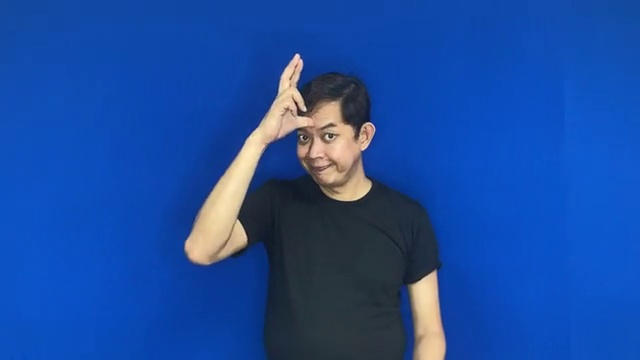chicken: (258, 45, 321, 150)
